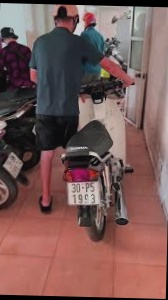Bien-so: (75, 179, 107, 205), (12, 153, 32, 180)
